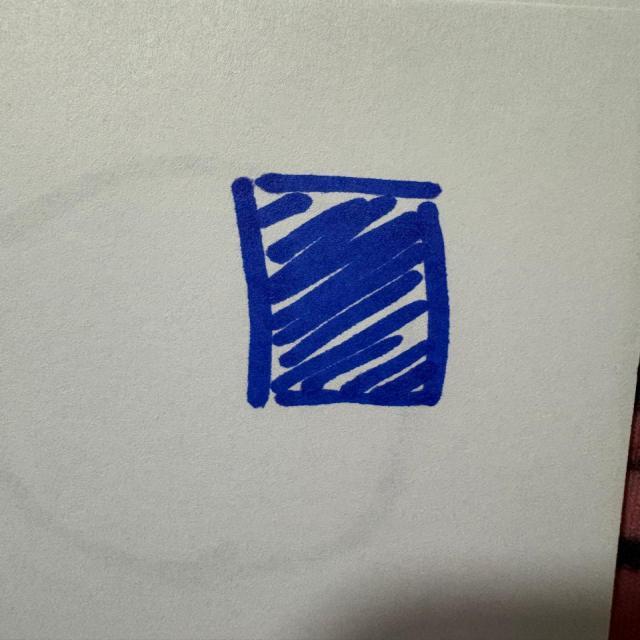Rectangle: (220, 164, 463, 429)
